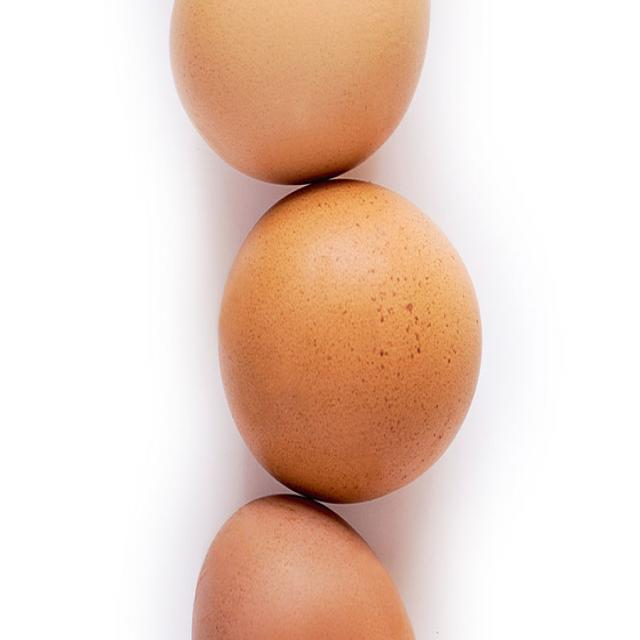egg: (218, 179, 482, 502)
